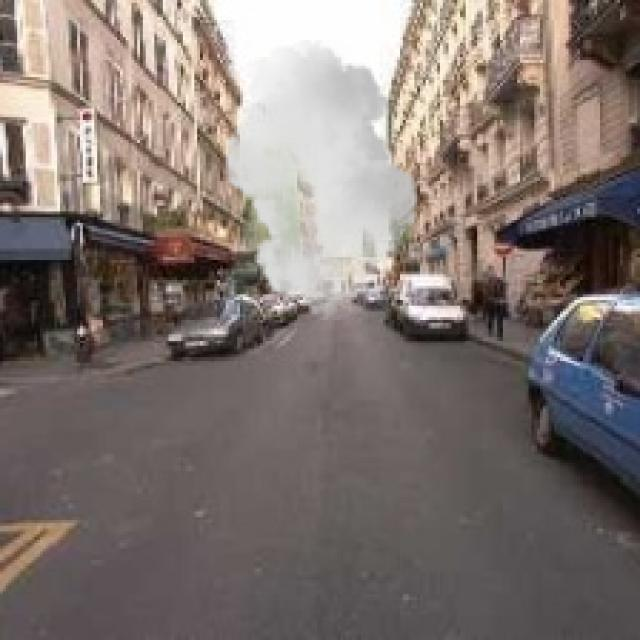smoke: (217, 40, 426, 320)
